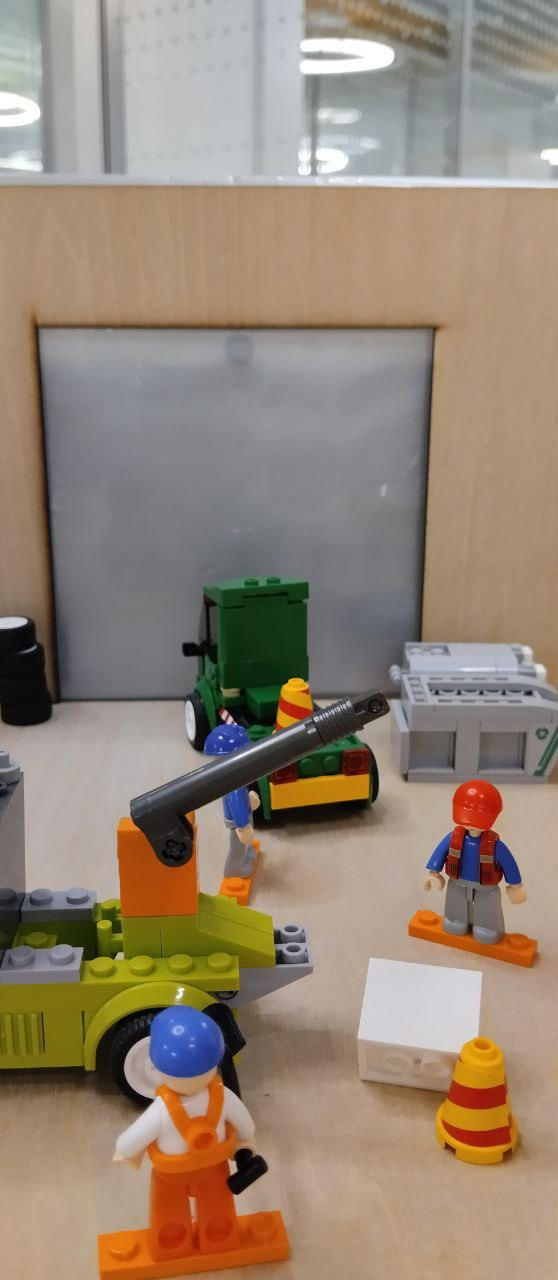Cone: (435, 1036, 519, 1164), (276, 682, 321, 754)
Crane: (0, 690, 388, 1103)
Object white: (361, 958, 489, 1092)
Truck: (186, 571, 384, 831)
